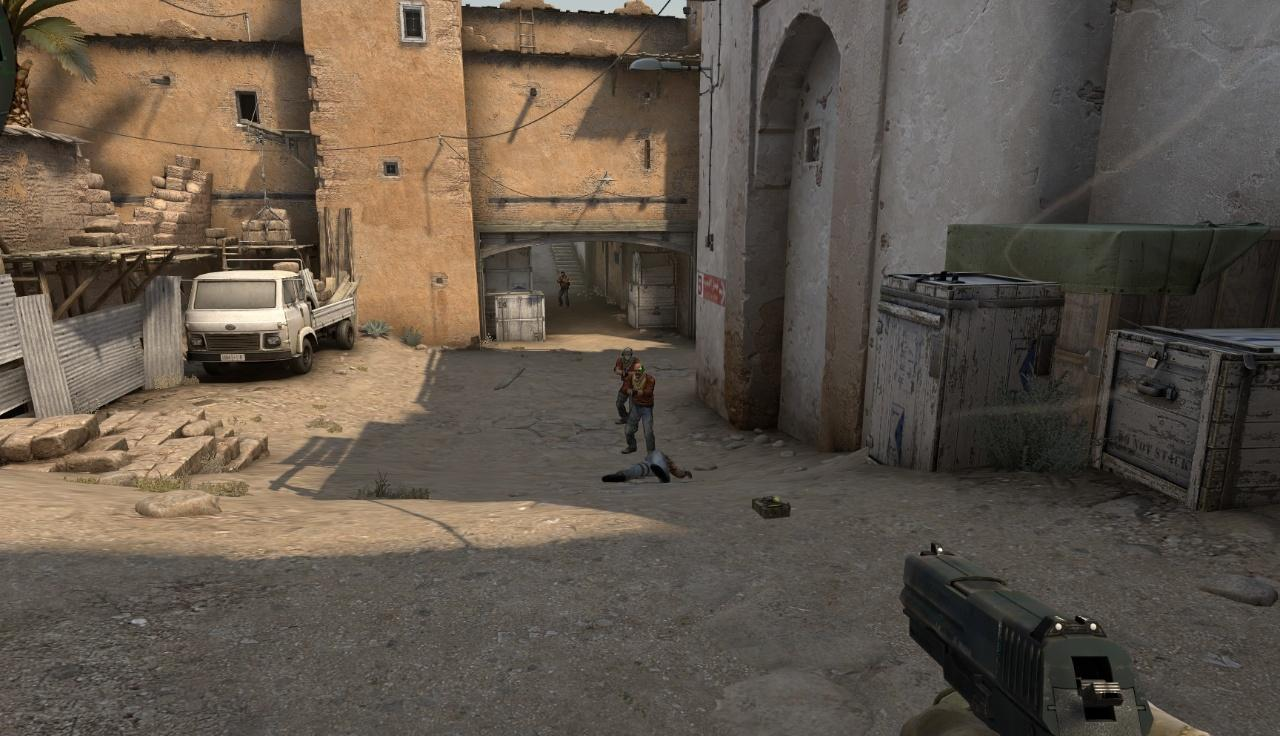pistol: (902, 546, 1157, 736)
tt: (625, 363, 655, 453)
tthead: (621, 347, 633, 361), (634, 364, 644, 378)
